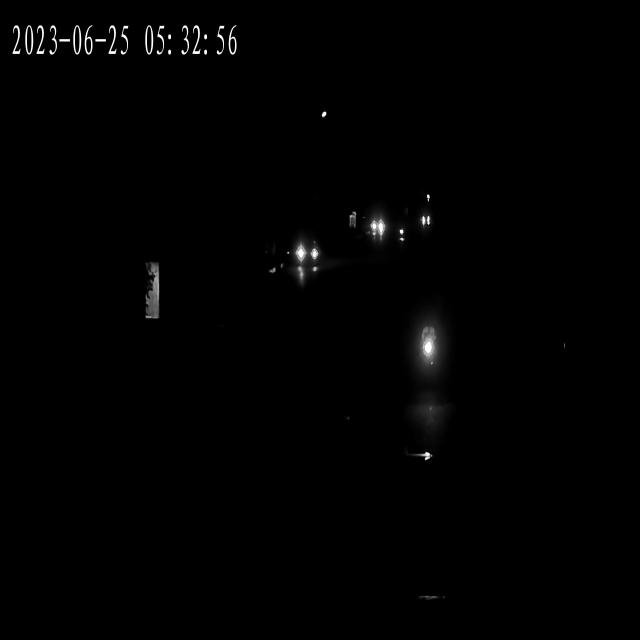Car: (288, 234, 321, 268), (368, 214, 385, 241), (417, 213, 432, 239)
Motorcycle: (413, 318, 442, 401)
